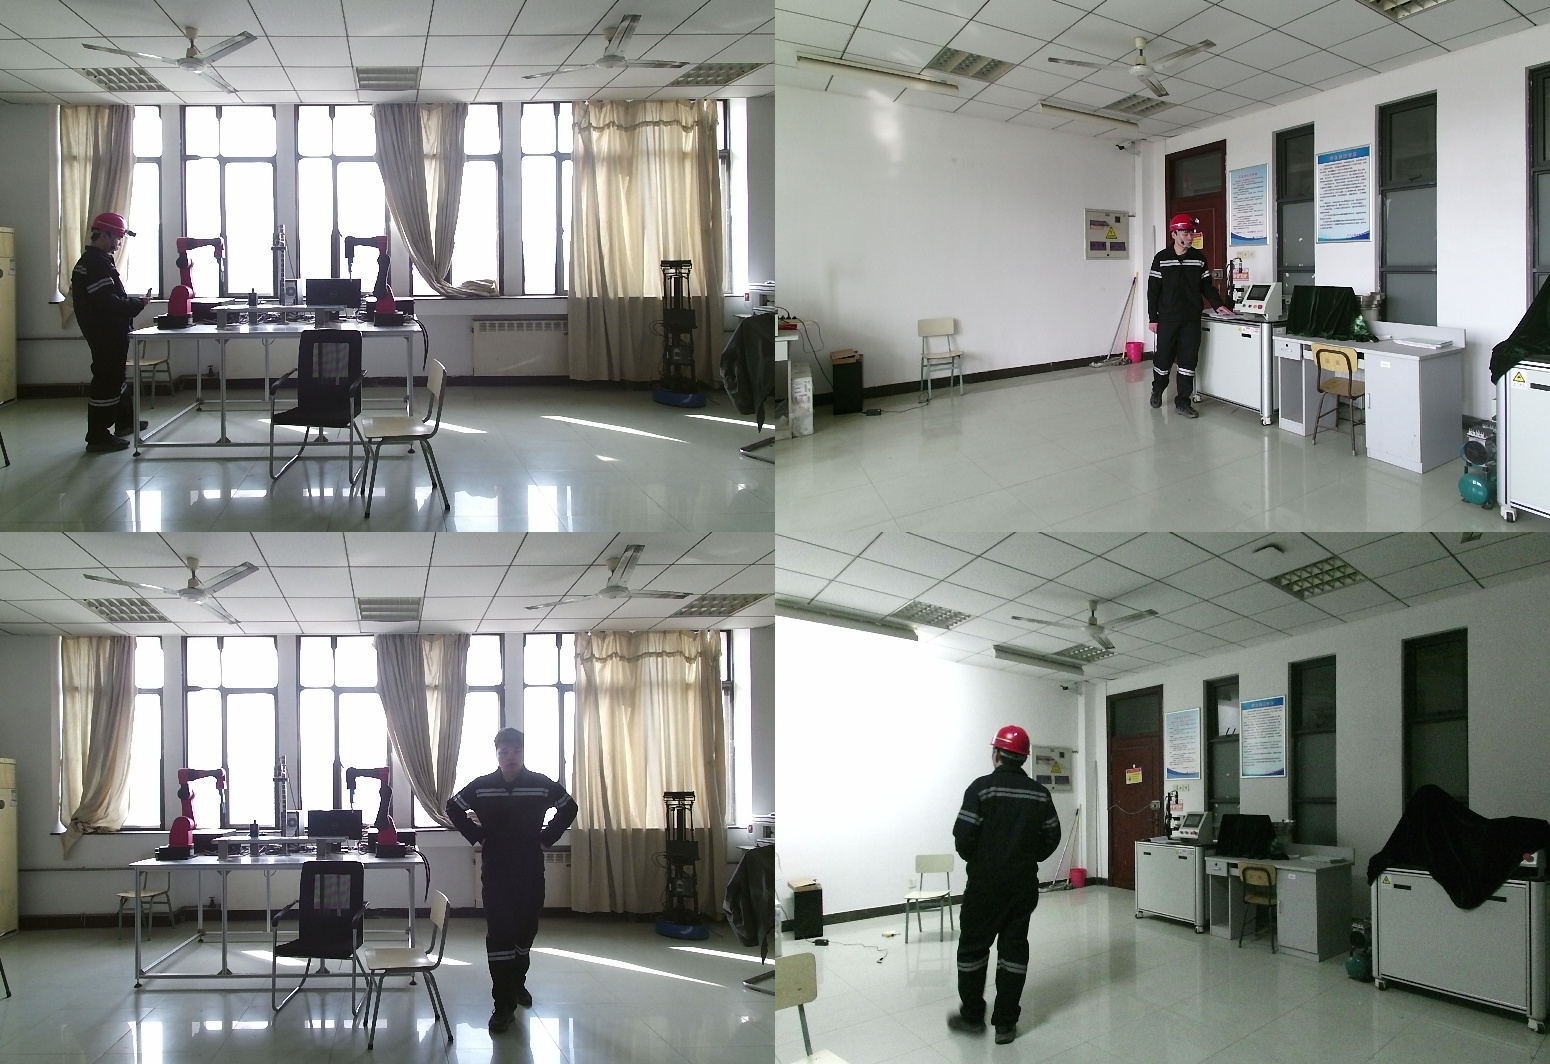person: (448, 729, 589, 1030), (955, 723, 1078, 1056), (69, 211, 153, 452), (1143, 215, 1226, 420)
